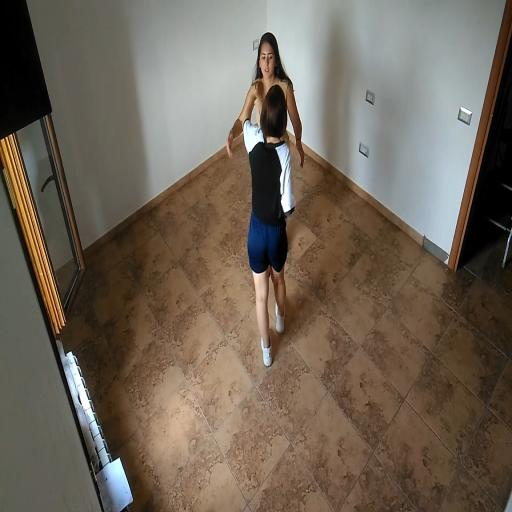nao-violencia: (217, 21, 312, 375)
